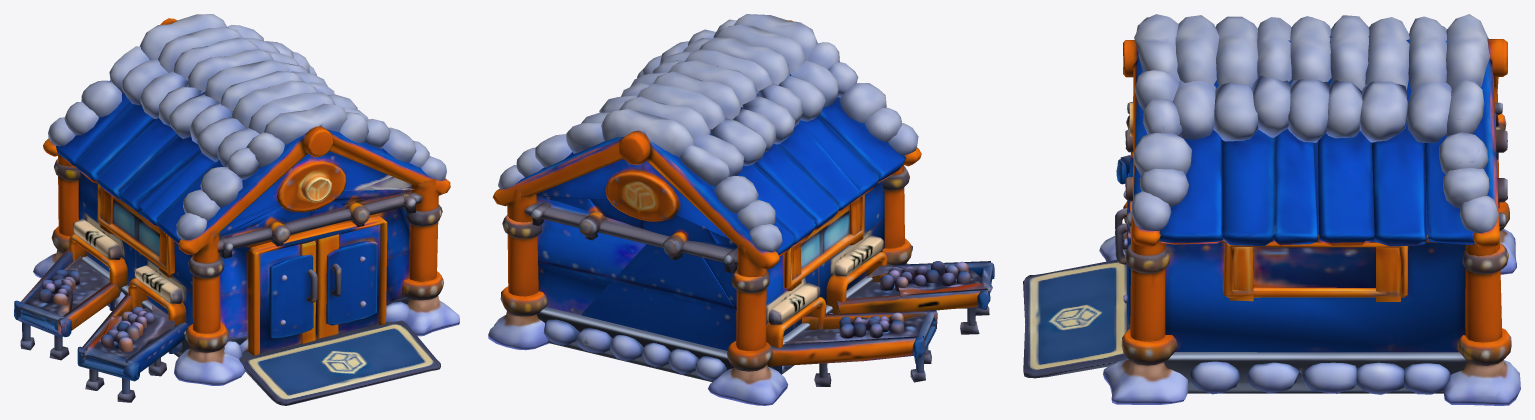
File: utility.glb
3 views of the same model, side by side, from view 1: azimuth 30°, elevation 25°; view 2: azimuth 150°, elevation 25°; view 3: azimuth 270°, elevation 25° (orthographic). The views are drawn at different scales.
Visible parts, largest first — view 1: geometry_0; view 2: geometry_0; view 3: geometry_0.
Part boxes in pixels (left/top/right/bottom): geometry_0: left=14, top=14, right=459, bottom=405; geometry_0: left=488, top=14, right=994, bottom=405; geometry_0: left=1023, top=14, right=1520, bottom=405.
Bounding box in the file's own units: 1 × 0.6532 × 0.9843.
1 material, 1 textured.
